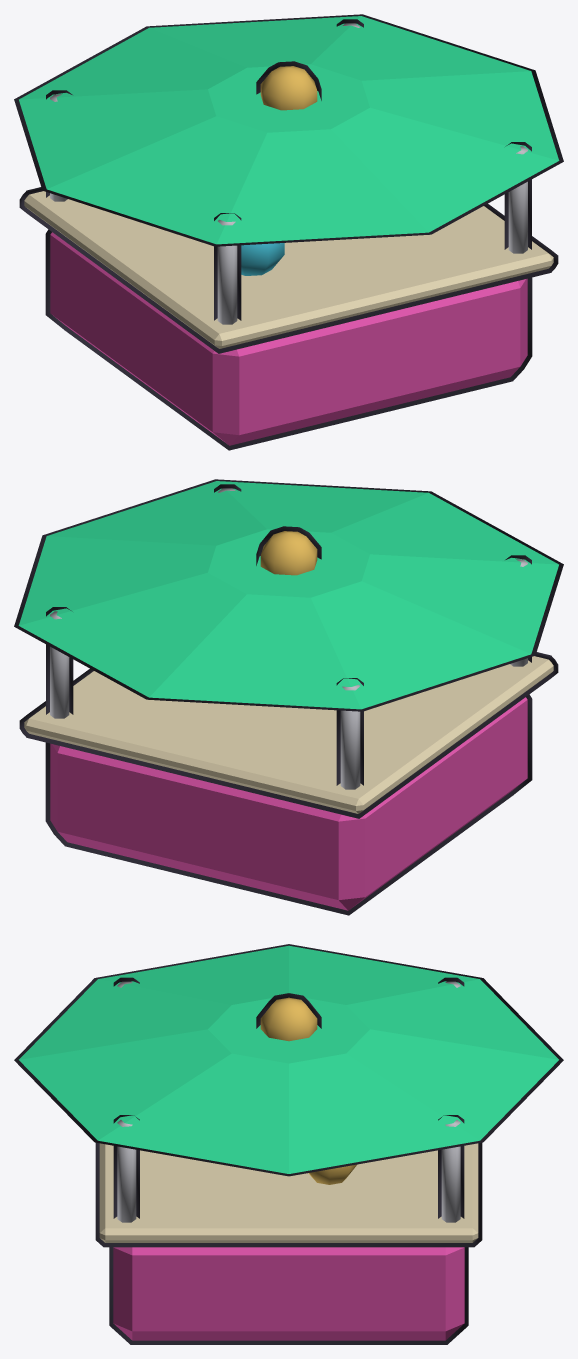
File: kiosk.glb
The picture shows the model from 3 angles, top to bottom: view 1: azimuth 30°, elevation 25°; view 2: azimuth 150°, elevation 25°; view 3: azimuth 270°, elevation 25°; orthographic projection. The views are drawn at different scales.
Visible parts, largest first — view 1: kiosk; view 2: kiosk; view 3: kiosk.
Boxes of the visible parts, left/top/right/bottom form: kiosk: left=14, top=14, right=563, bottom=450; kiosk: left=14, top=479, right=563, bottom=915; kiosk: left=14, top=944, right=563, bottom=1344.
Size of the model in its own units: 4.07 by 2.31 by 4.07.
